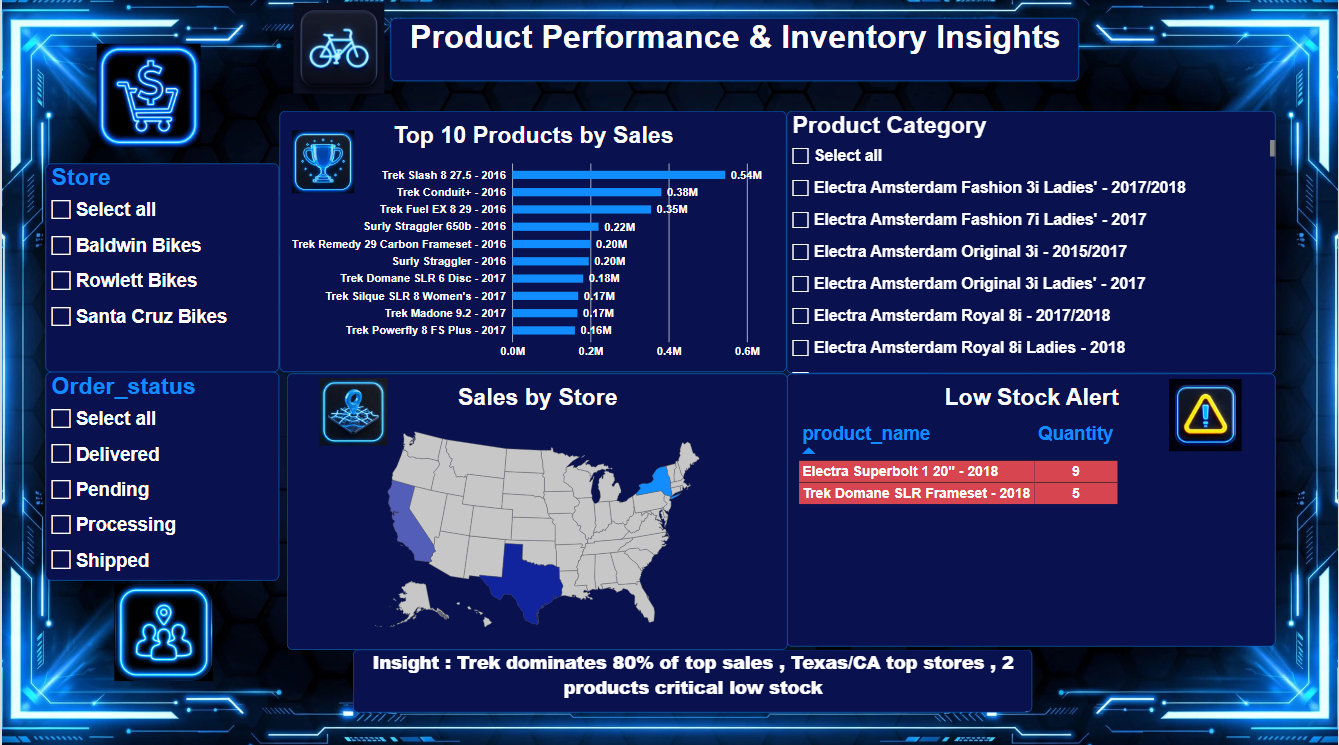

The dashboard page shown, as its layout file describes it:
{"tool":"powerbi","page":{"name":"Product","canvas":[1920,1080],"ordinal":1},"visuals":[{"type":"barChart","title":"Top 10 Products by Sales","fields":{"Category":["products.product_name"],"Y":["brands.Total Revenue"]},"box":[399.8,163.5,729.1,375.3],"z":0},{"type":"tableEx","title":"Low Stock Alert","fields":{"Values":["products.product_name","Sum(stocks.quantity)"]},"box":[1128.8,540.6,703.2,392.6],"z":1000},{"type":"image","box":[1678.5,547.4,104.5,106.8],"z":2000},{"type":"shapeMap","title":"Sales by Store","fields":{"Category":["stores.state"],"Value":["brands.Total Revenue"]},"box":[408.8,540.6,720,397.5],"z":3000},{"type":"image","box":[433.8,547.4,143.1,97.7],"z":4000},{"type":"slicer","fields":{"Values":["products.product_name"]},"box":[1128.8,163.5,703.2,377.5],"z":5000},{"type":"textbox","title":"Product Performance & Inventory Insights","box":[558.7,29.5,990.3,90.9],"z":6000},{"type":"image","box":[415.6,179.4,90.9,115.8],"z":7000},{"type":"image","box":[408.8,9.1,149,130.7],"z":8000},{"type":"image","box":[136.3,65.9,150,150],"z":9000},{"type":"image","box":[156.7,842.7,149.9,140.8],"z":10000},{"type":"textbox","title":"Insight : Trek dominates 80% of top sales , Texas/CA top stores , 2 products critical low stock","box":[504.2,938,976.7,90.9],"z":11000},{"type":"slicer","fields":{"Values":["stores.store_name"]},"box":[63.6,238.5,336.2,299.8],"z":12000},{"type":"slicer","fields":{"Values":["new.order_status"]},"box":[63.6,538.3,336.2,299.8],"z":12001}]}

Visuals, with their boxes in screenshot pixels (x1, y1, x2, y2), scaled from the page's 1920x1080 canvas onto the 1339x745 screenshot:
"Top 10 Products by Sales" barChart: bbox=(279, 113, 787, 372)
"Low Stock Alert" tableEx: bbox=(787, 373, 1278, 644)
image: bbox=(1171, 378, 1243, 451)
"Sales by Store" shapeMap: bbox=(285, 373, 787, 647)
image: bbox=(303, 378, 402, 445)
slicer - products.product_name: bbox=(787, 113, 1278, 373)
"Product Performance & Inventory Insights" textbox: bbox=(390, 20, 1080, 83)
image: bbox=(290, 124, 353, 204)
image: bbox=(285, 6, 389, 96)
image: bbox=(95, 45, 200, 149)
image: bbox=(109, 581, 214, 678)
"Insight : Trek dominates 80% of top sales , Texas/CA top stores , 2 products critical low stock" textbox: bbox=(352, 647, 1033, 710)
slicer - stores.store_name: bbox=(44, 165, 279, 371)
slicer - new.order_status: bbox=(44, 371, 279, 578)
